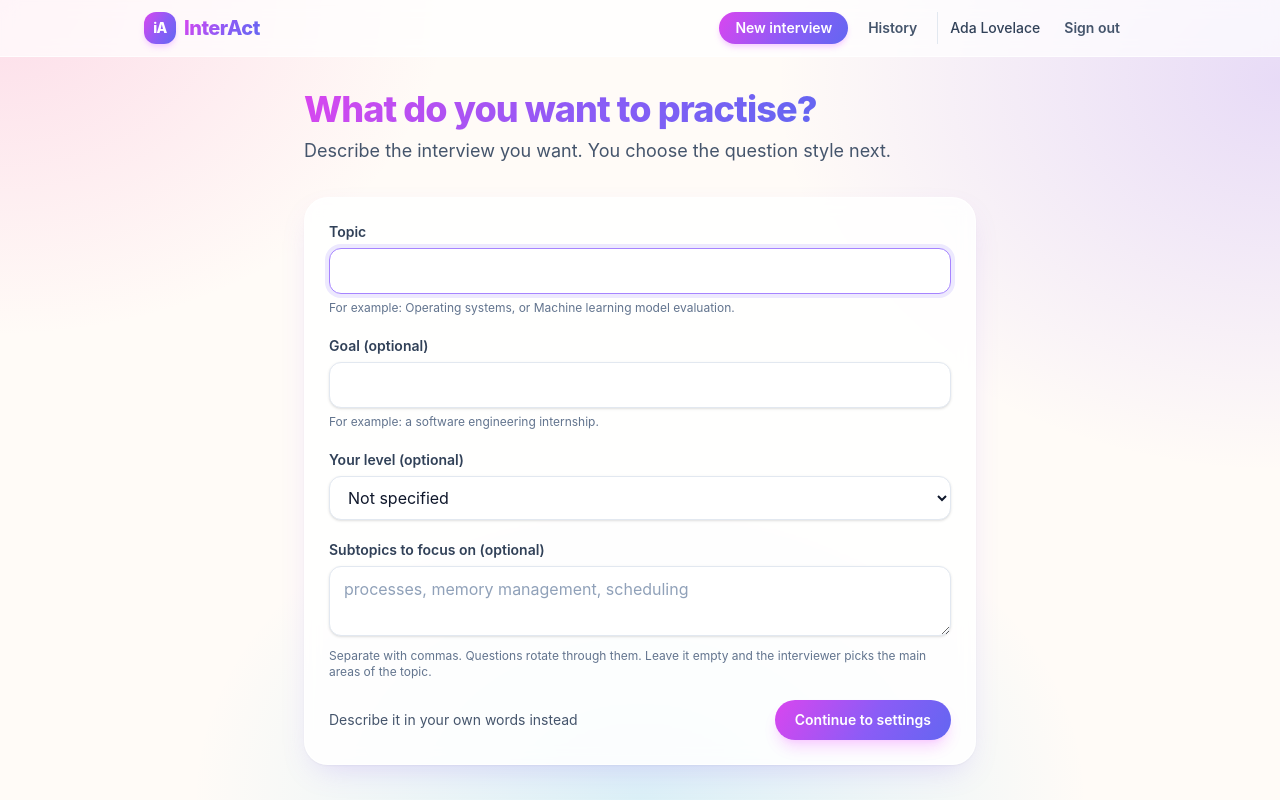
it: topic form page › checks the form before calling the server
Click the button "Continue to settings" at x=863, y=720, box [775, 700, 951, 740]
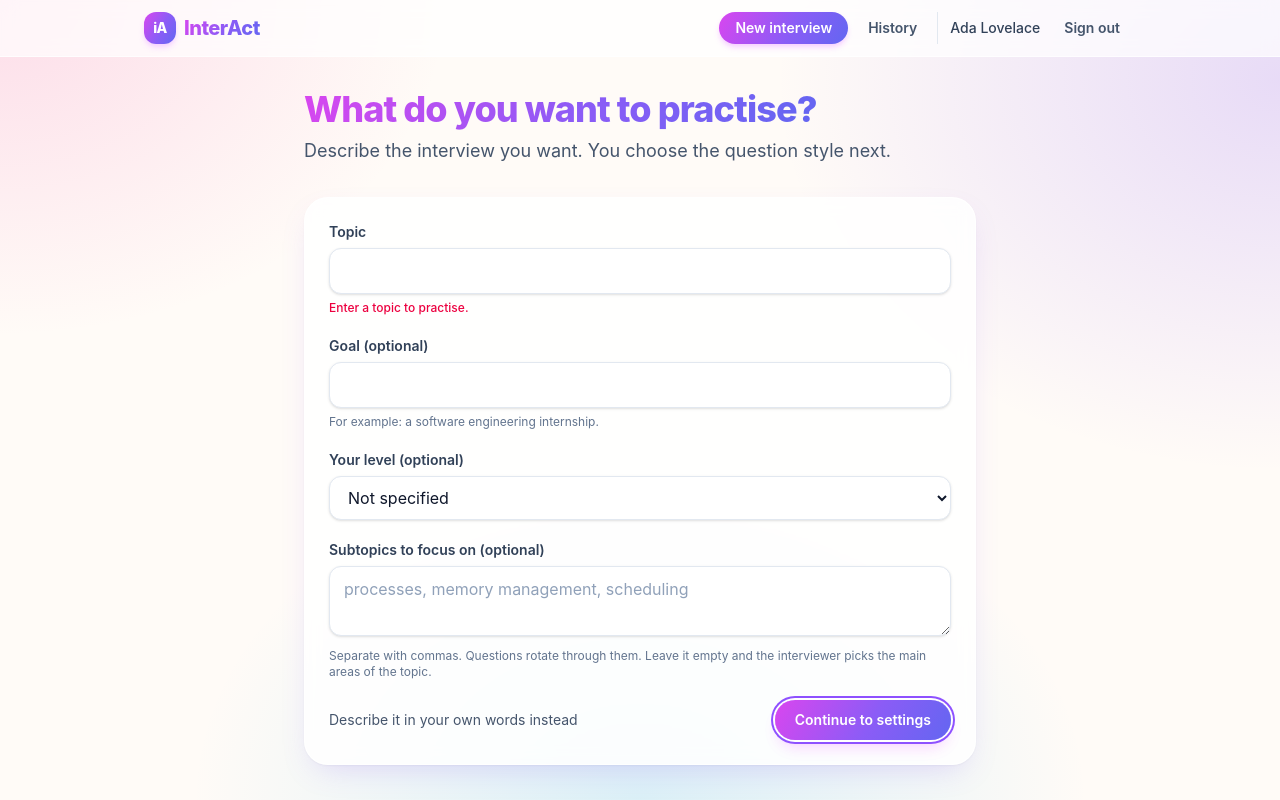
expect the text "Enter a topic to practise." is shown: met, box [329, 300, 468, 315]
